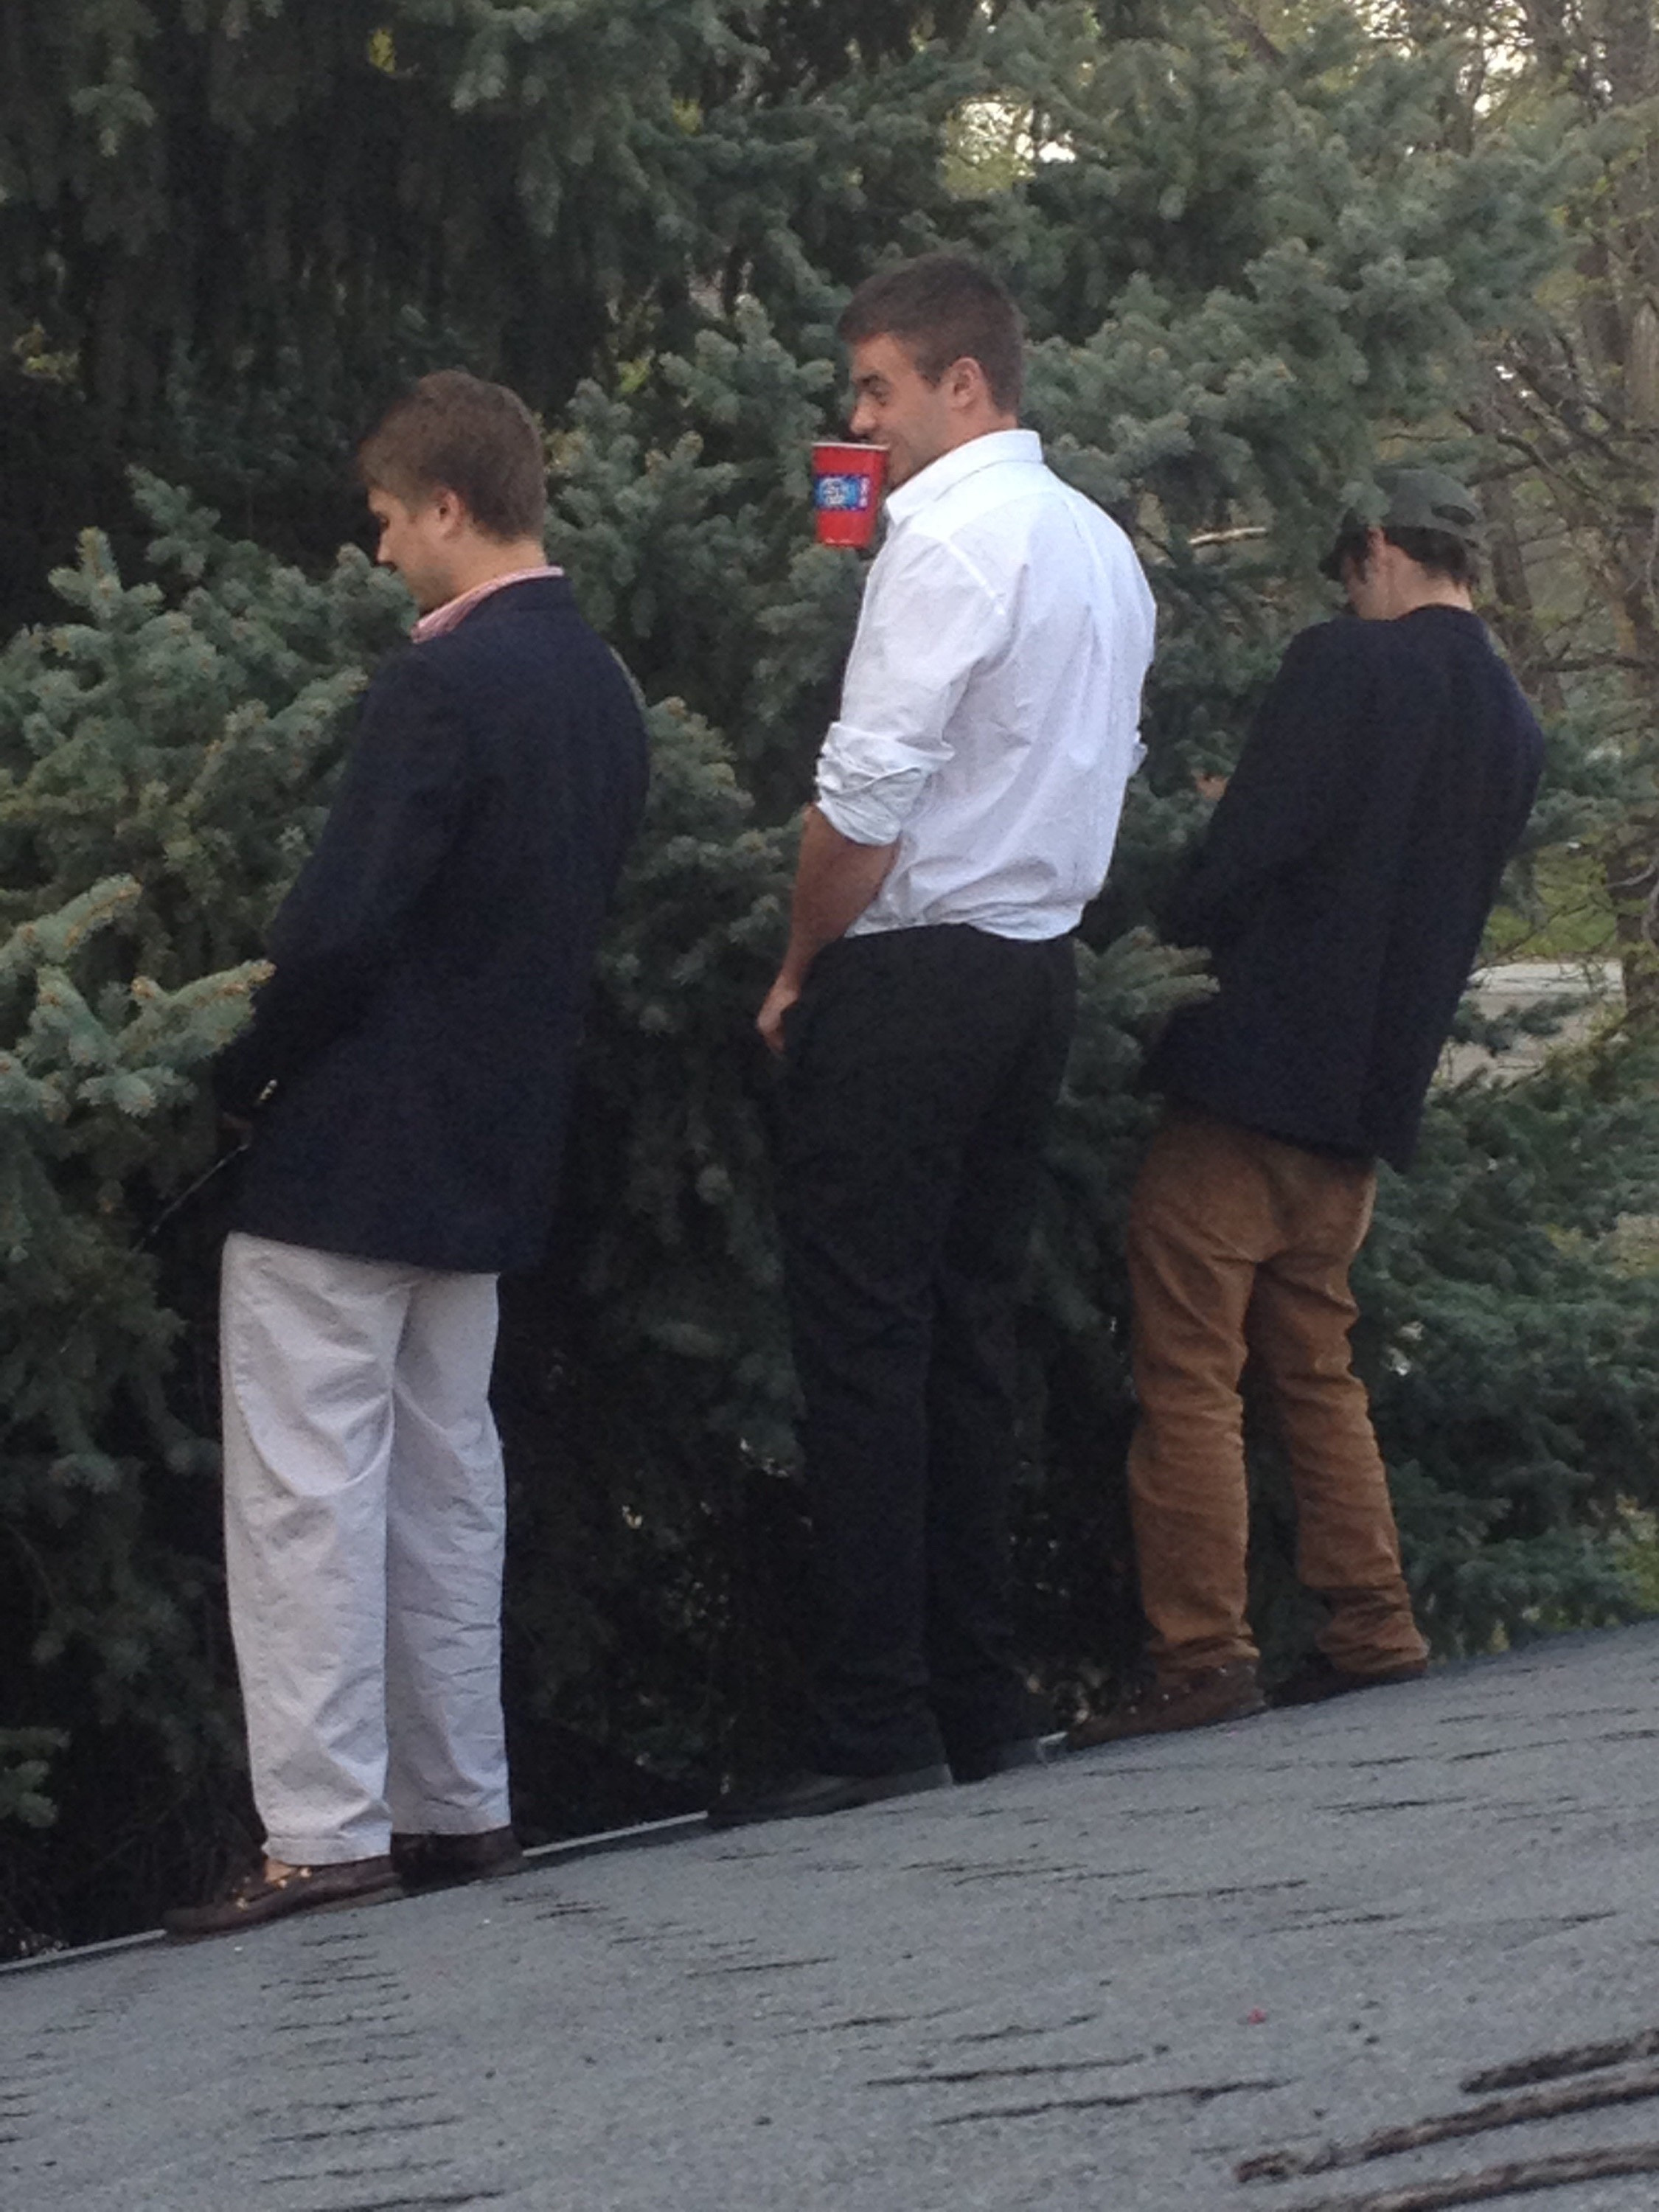Person: (162, 366, 652, 1945), (702, 253, 1161, 1829), (1036, 463, 1542, 1752)
